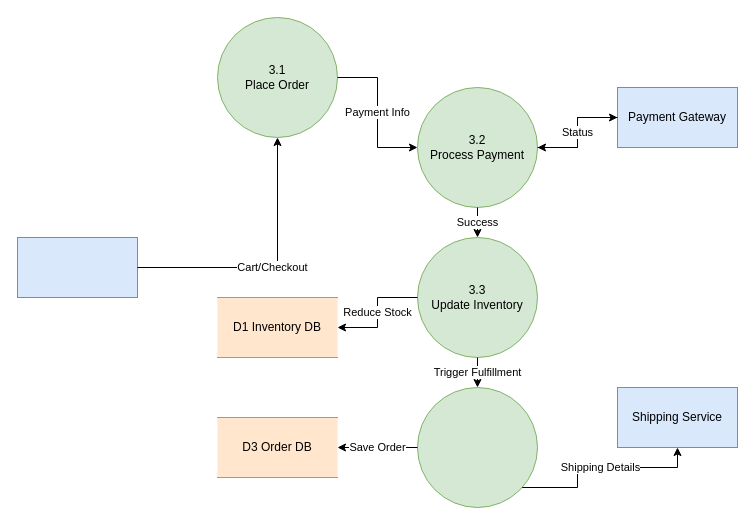
Image size: 755x525. Some labels were removed from this diagram. The shapes that lost their labels are listed below. From the top down, each one's centre as x and y in pixels, then its label:
point 77,267: Customer
point 477,447: 3.4 Fulfill Order
